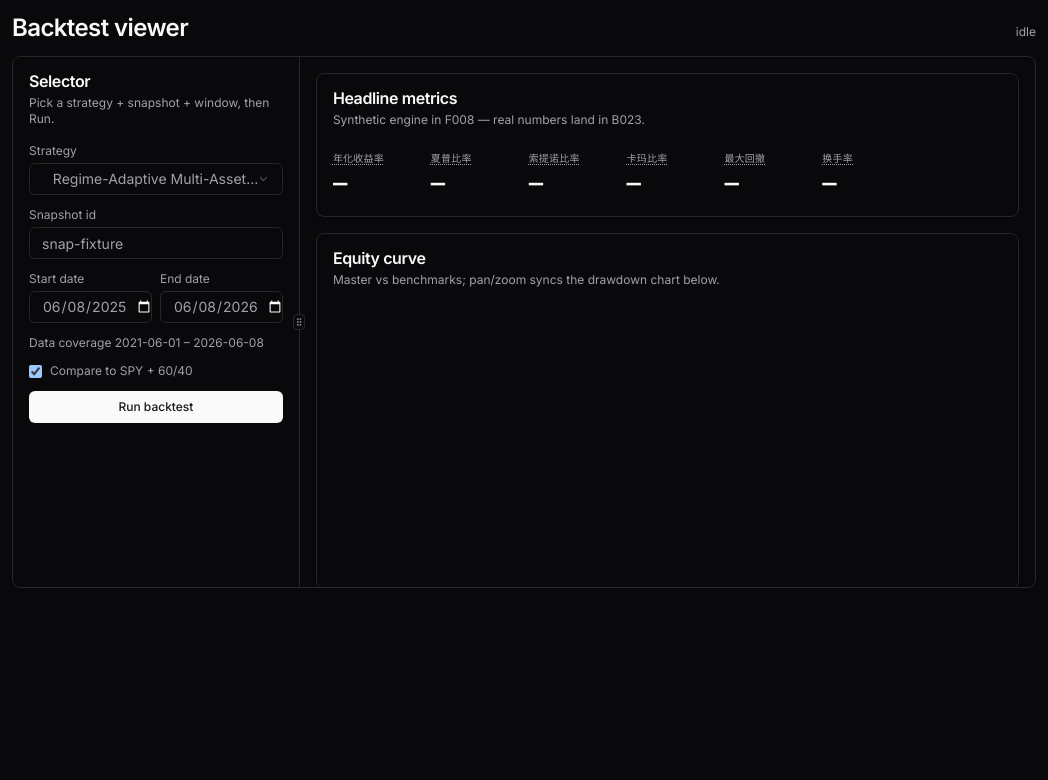
BacktestPage (B022 F008) › Run → enqueue (202) → poll GET → surfaces done metrics + state line
The width and height of the screenshot is (1048, 780).
Click the button with test id "backtest-run" at (156, 407), box x1=29 y1=391 x2=283 y2=423
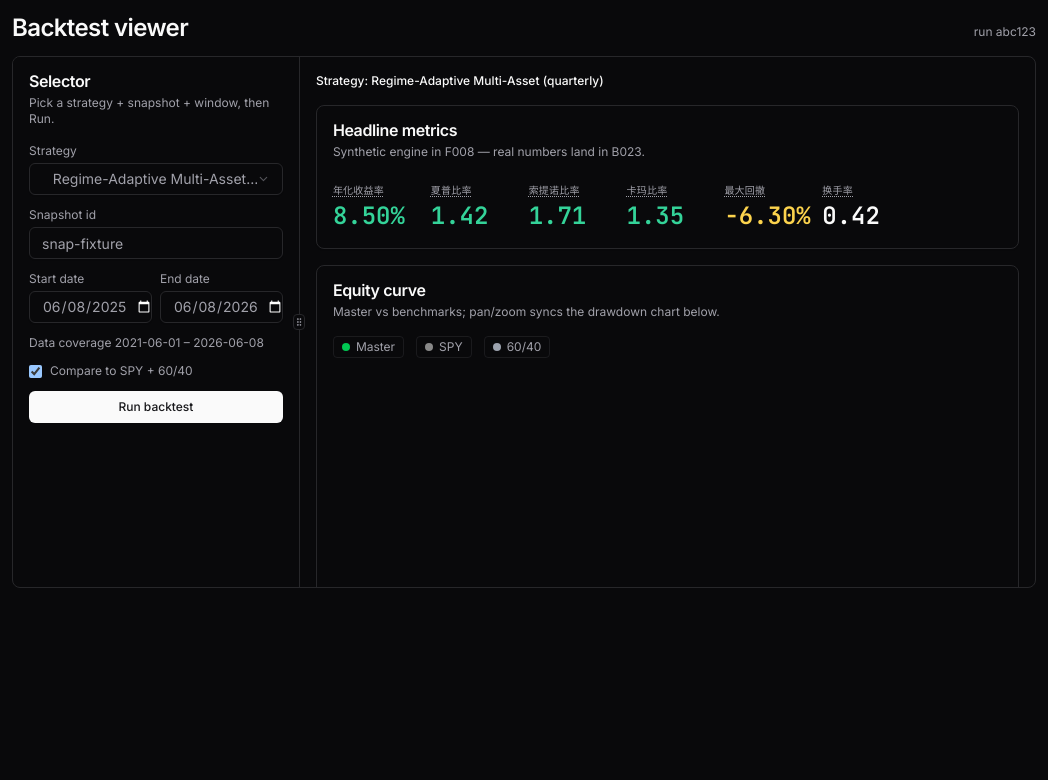
Expected: the text with test id "backtest-state" reads "run abc123", x1=974 y1=24 x2=1036 y2=39
Expected: the element with test id "backtest-metrics" shows "8.50%", x1=333 y1=200 x2=405 y2=231
Expected: the element with test id "backtest-metrics" shows "1.42", x1=431 y1=200 x2=488 y2=231
